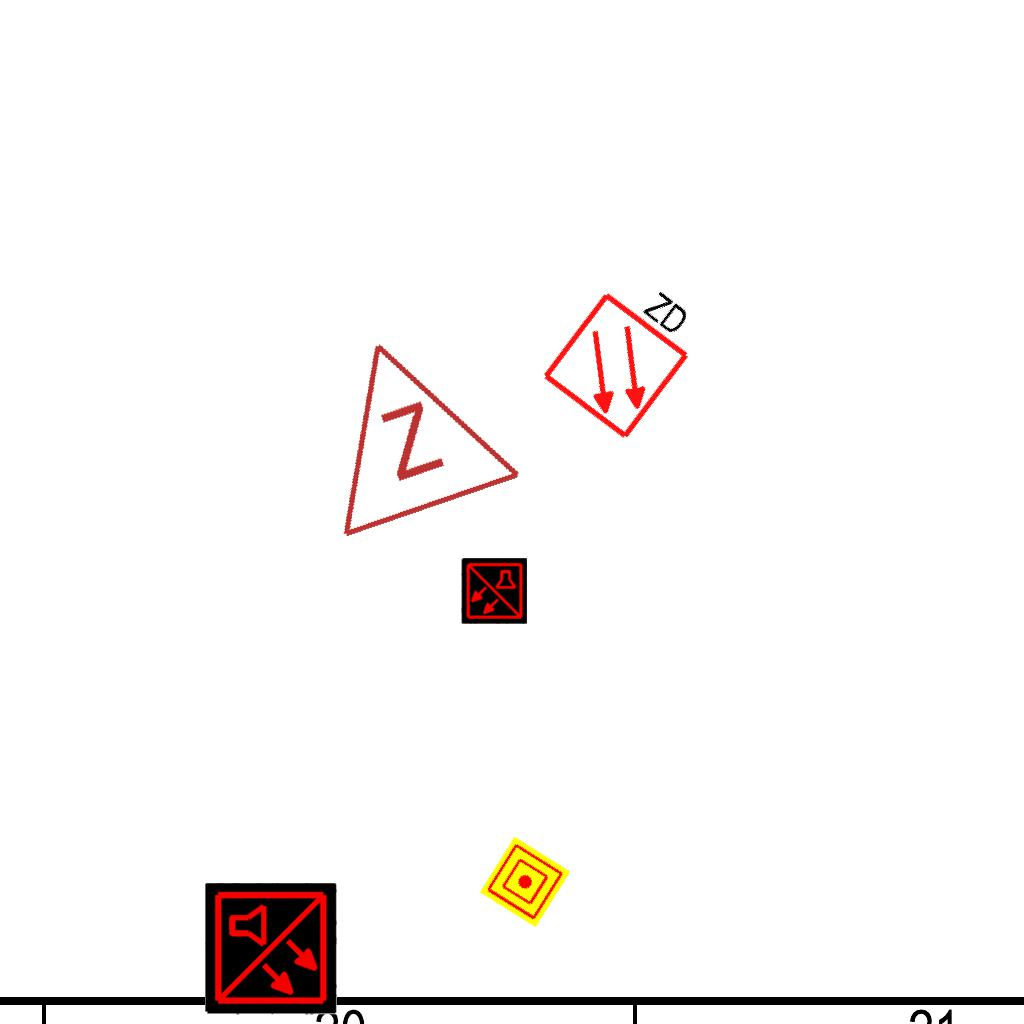NAM-Nichtautomatischer_Melder: (479, 836, 571, 928)
OKW_Multisensormelder_(Kombination_optischer_Rauch-Kahlenmonoxid_Waerme-Melder): (205, 883, 337, 1015), (461, 558, 527, 624)
ZD_Melder_in_Zwischendecke_mit_Revisionsoeffnung_mind_40_x_40_cm: (535, 255, 717, 444)
Zimmersignalleuchte: (277, 300, 529, 554)
